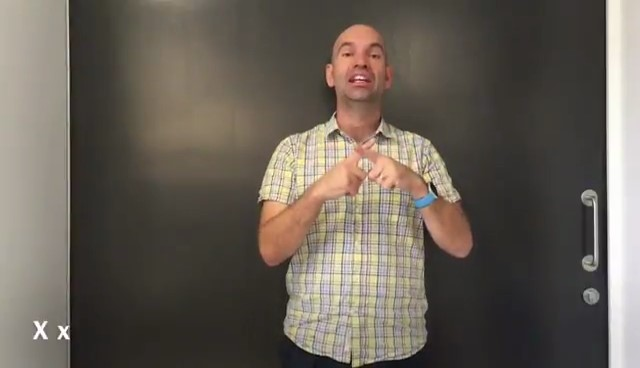X: (309, 131, 418, 215)
